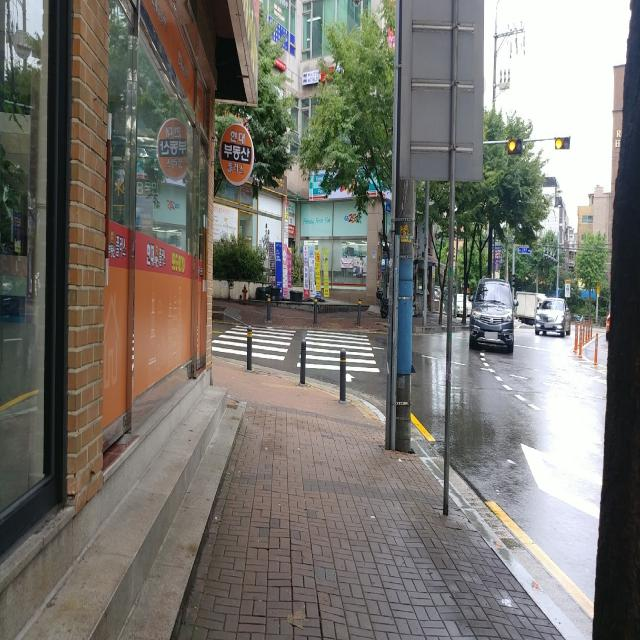횡단보도: (211, 324, 381, 384)
